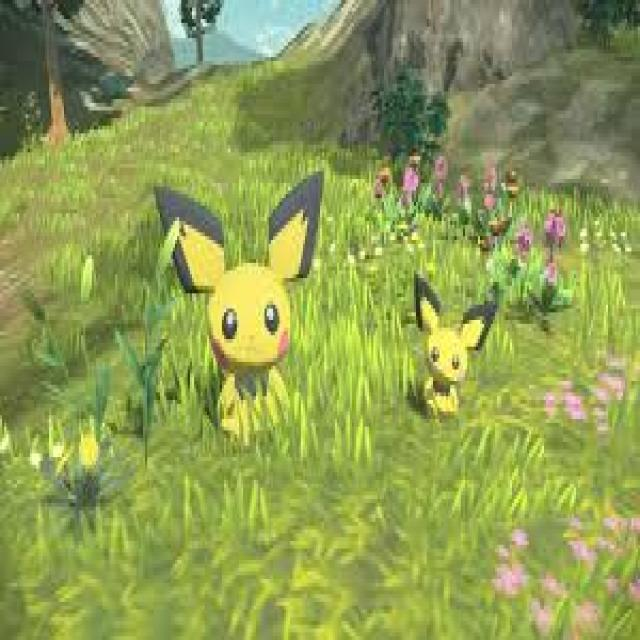pichu: (151, 172, 347, 431), (406, 260, 489, 452)
